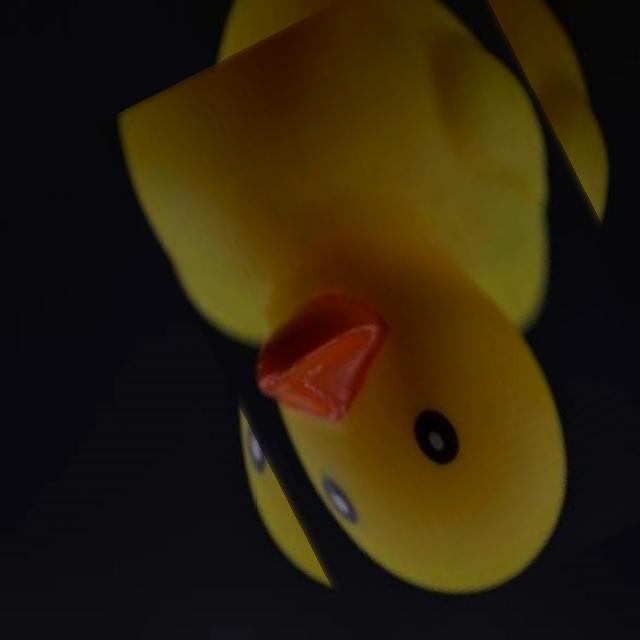rubber-duck: (118, 0, 606, 592)
